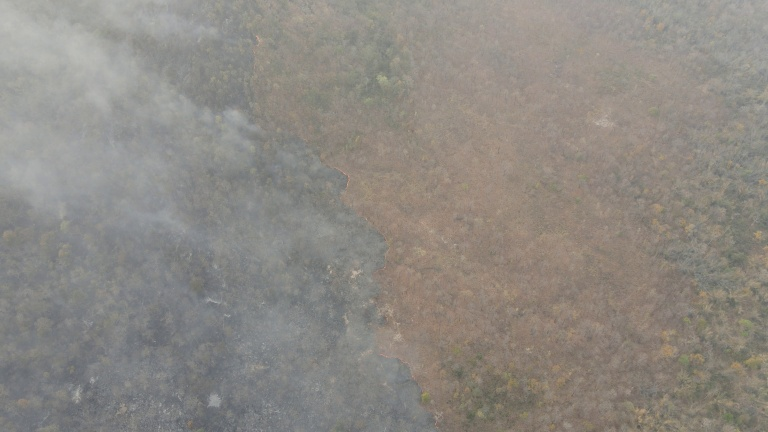smoke: (1, 1, 439, 428)
